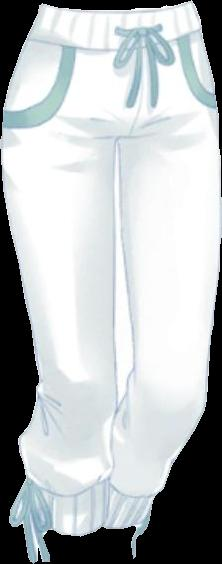Hemline: (32, 522, 106, 536), (102, 521, 148, 532)
Pantleg: (0, 4, 144, 535), (104, 1, 221, 528)
Waistline: (22, 23, 202, 52), (36, 0, 193, 16), (21, 476, 112, 496), (107, 480, 154, 499)
